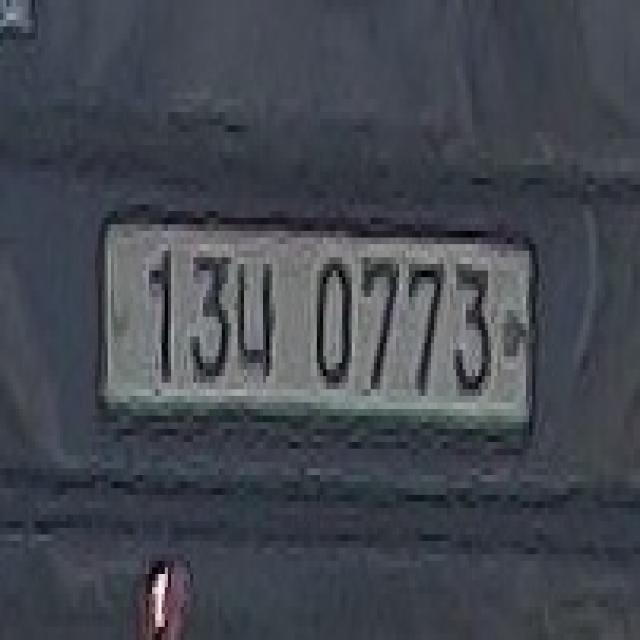0: (307, 251, 358, 396)
1: (136, 238, 187, 416)
3: (450, 237, 504, 429), (187, 250, 231, 402)
7: (399, 250, 447, 416), (355, 250, 405, 402)
license_plate: (95, 204, 542, 462)
na: (234, 257, 288, 396)
